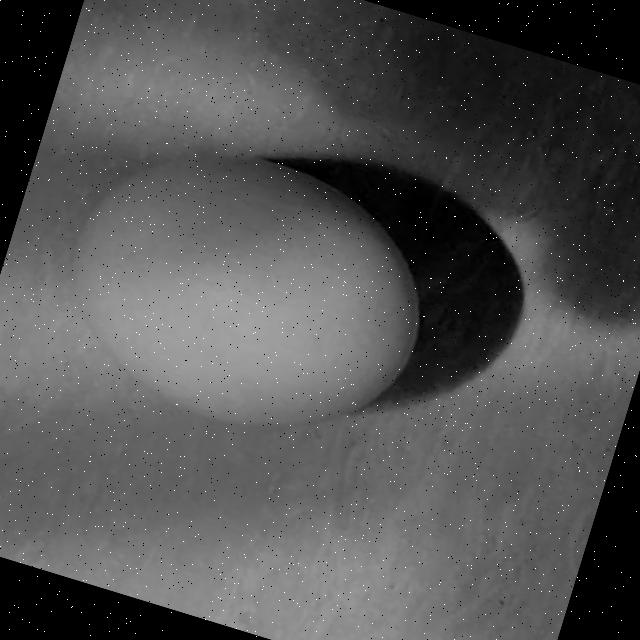ping-pong-ball: (42, 118, 447, 463)
